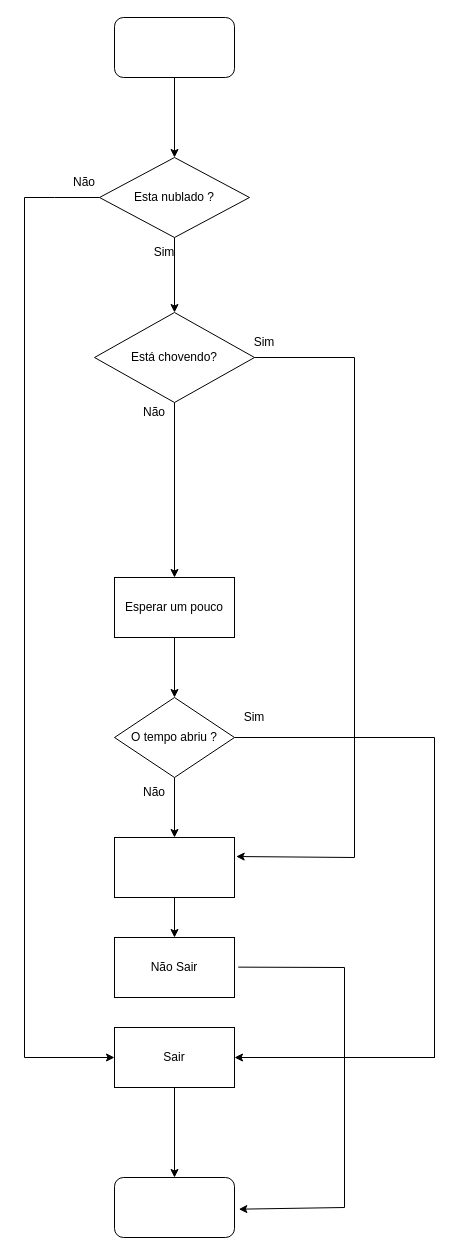
The diagram is 460 pixels wide and 1255 high, and some of its shapes have lost their labels. Each missing label, with the centre of its shape:
"Fim" goes at [174,1207].
"Inicio" goes at [174,47].
"Voltar para dentro da casa" goes at [174,867].
